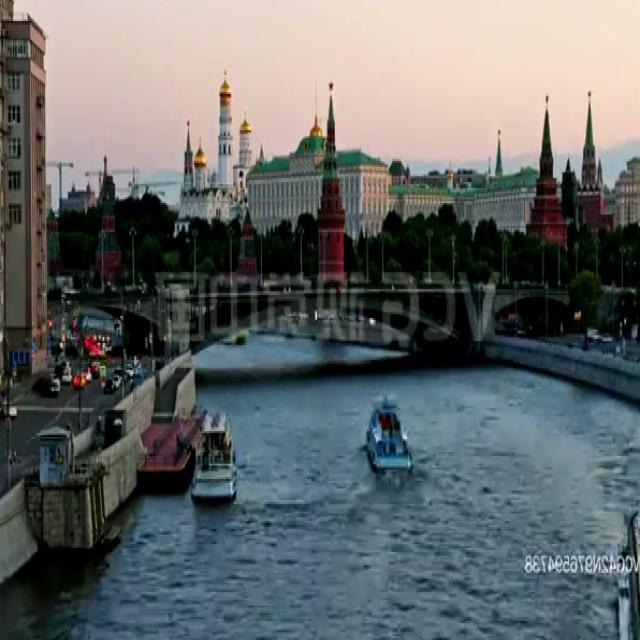passenger ship: (190, 408, 238, 502), (366, 397, 415, 474)
